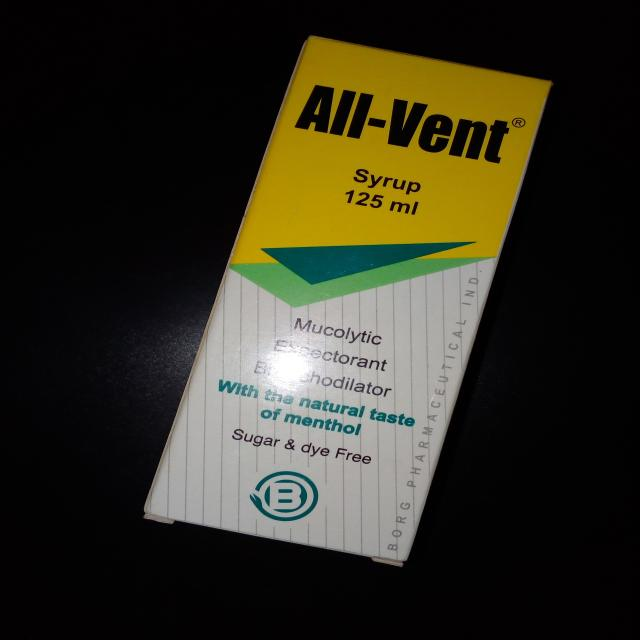Medicine: (141, 33, 556, 564)
